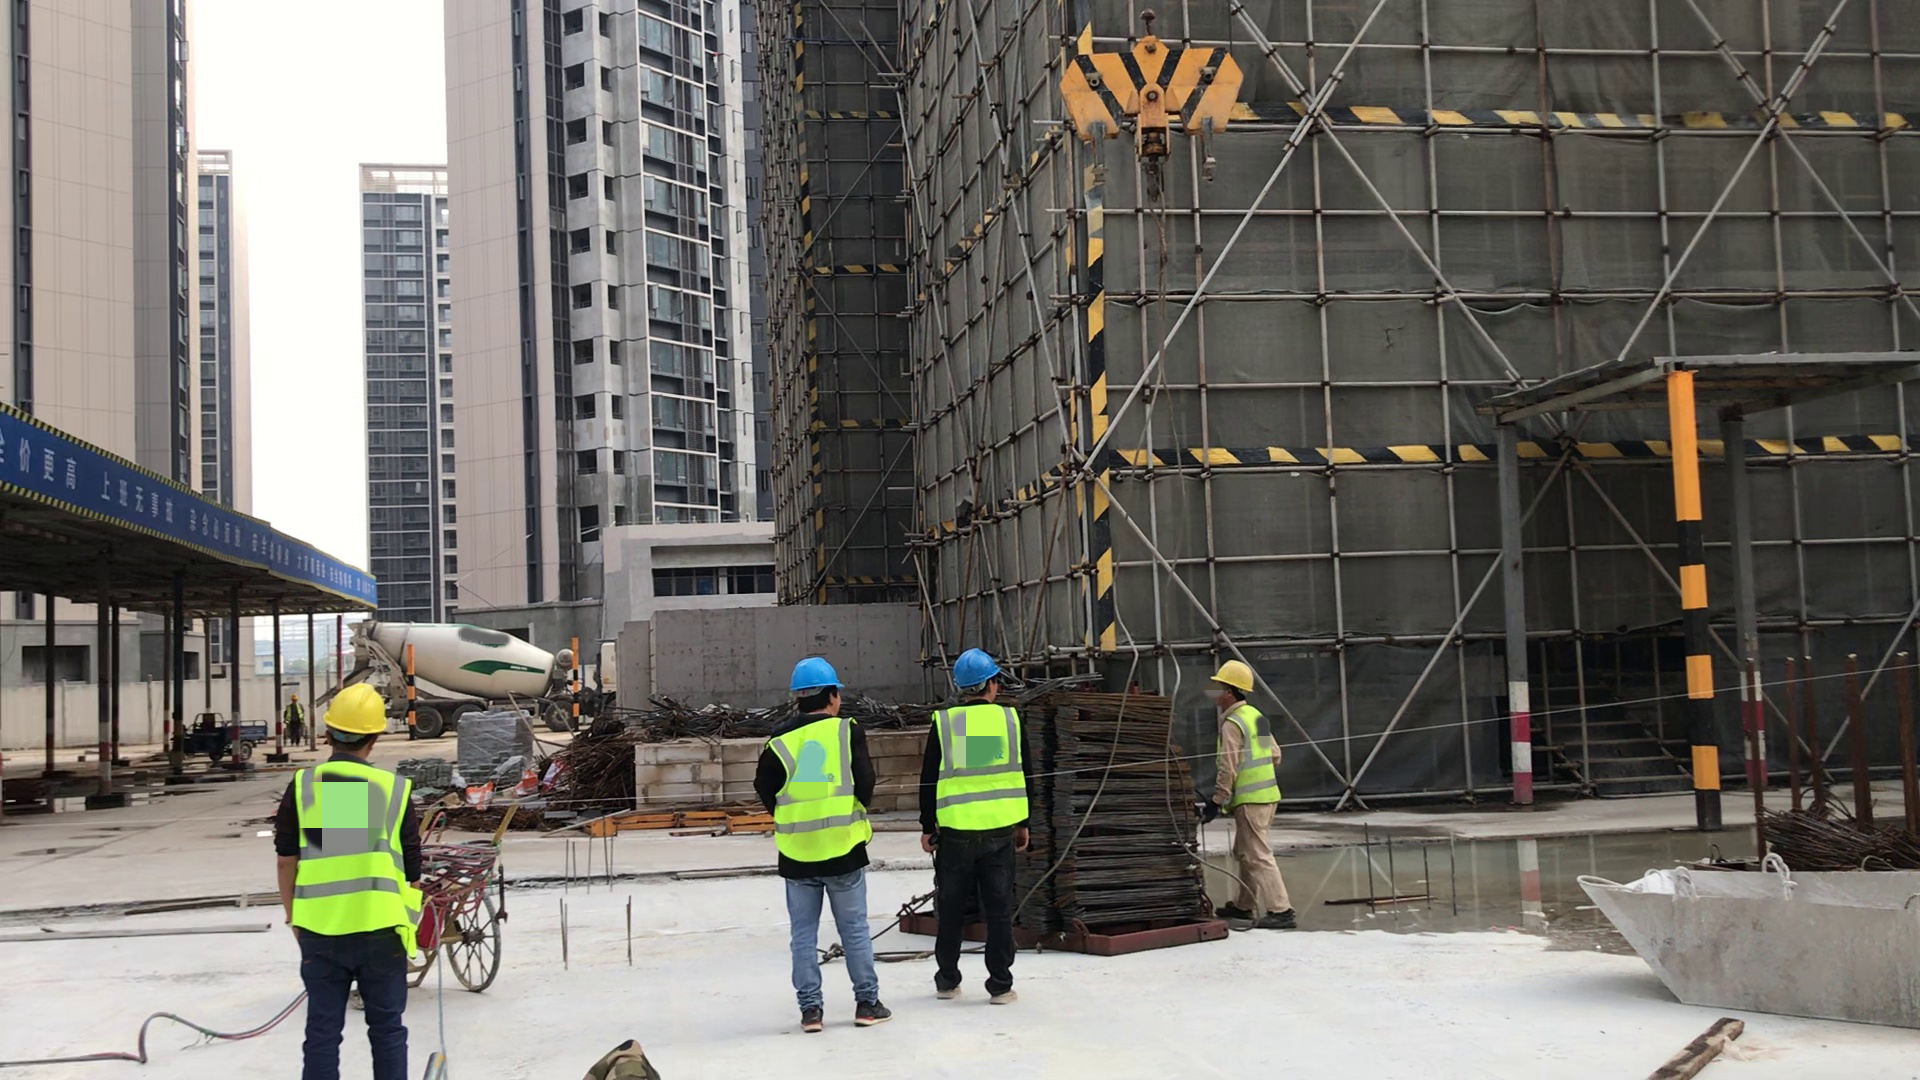helmet: (323, 682, 387, 744), (950, 653, 999, 696), (786, 658, 842, 695), (1211, 660, 1257, 695), (291, 694, 298, 702)
person: (273, 682, 433, 1080), (752, 656, 896, 1037), (918, 649, 1033, 1009), (1197, 658, 1306, 935), (280, 691, 306, 747)
vest: (280, 759, 425, 944), (765, 716, 878, 861), (927, 705, 1031, 830), (1223, 703, 1280, 808), (284, 703, 304, 725)
